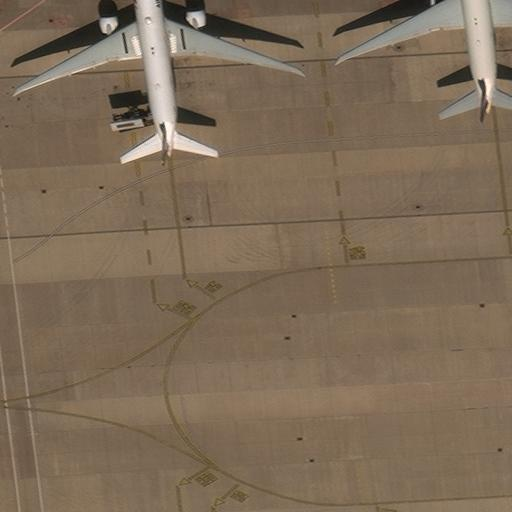Large Civil Transport: (17, 0, 299, 164), (337, 0, 511, 113)
